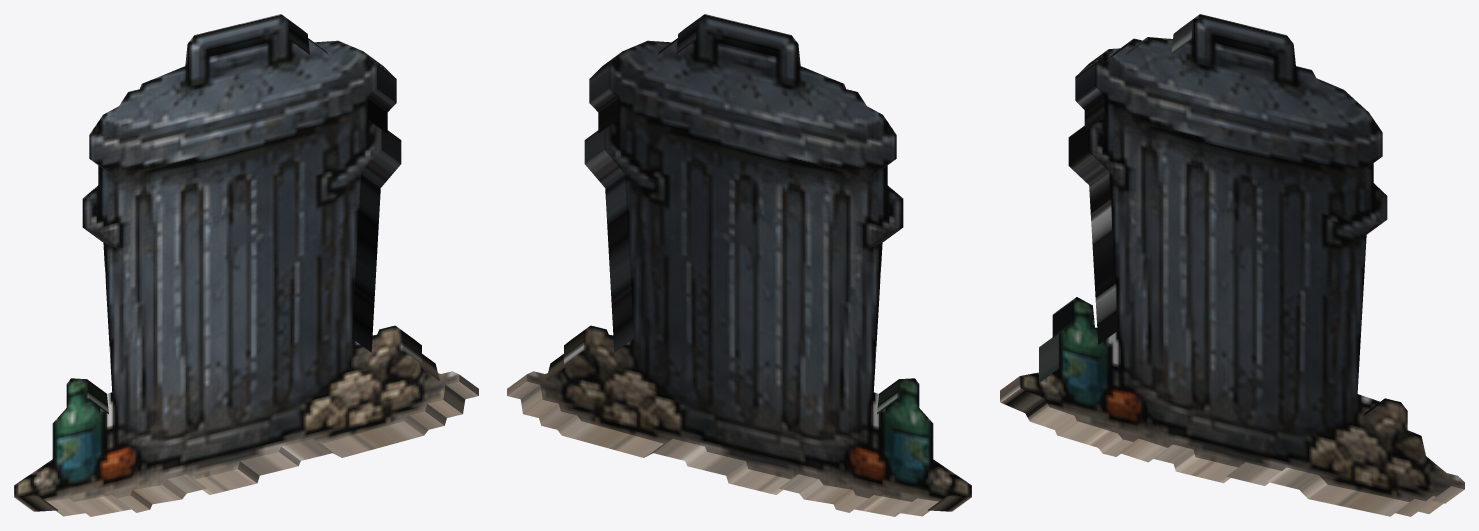
File: props_06.glb
3 views of the same model, side by side, from view 1: azimuth 30°, elevation 25°; view 2: azimuth 150°, elevation 25°; view 3: azimuth 330°, elevation 25° (orthographic).
Parts seen in each view (by area): view 1: world; view 2: world; view 3: world.
Boxes of the visible parts, <box> form: world: <box>14,14,478,516</box>; world: <box>507,14,971,516</box>; world: <box>1000,14,1464,516</box>.
Size of the model in its own units: 1.95 by 1.86 by 0.1496.
1 material, 1 textured.
